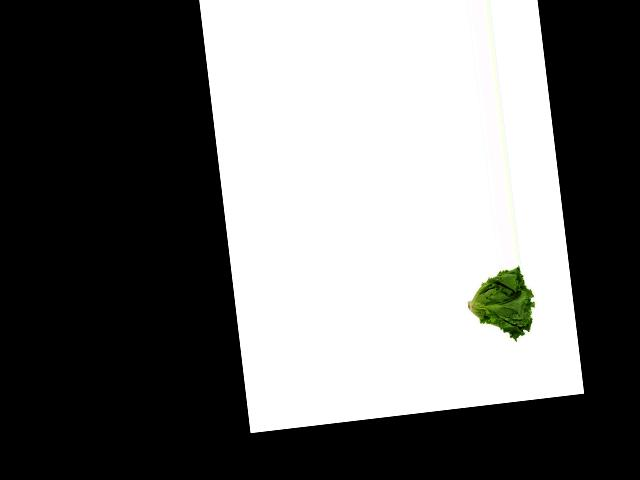lettuce: (462, 263, 541, 343)
